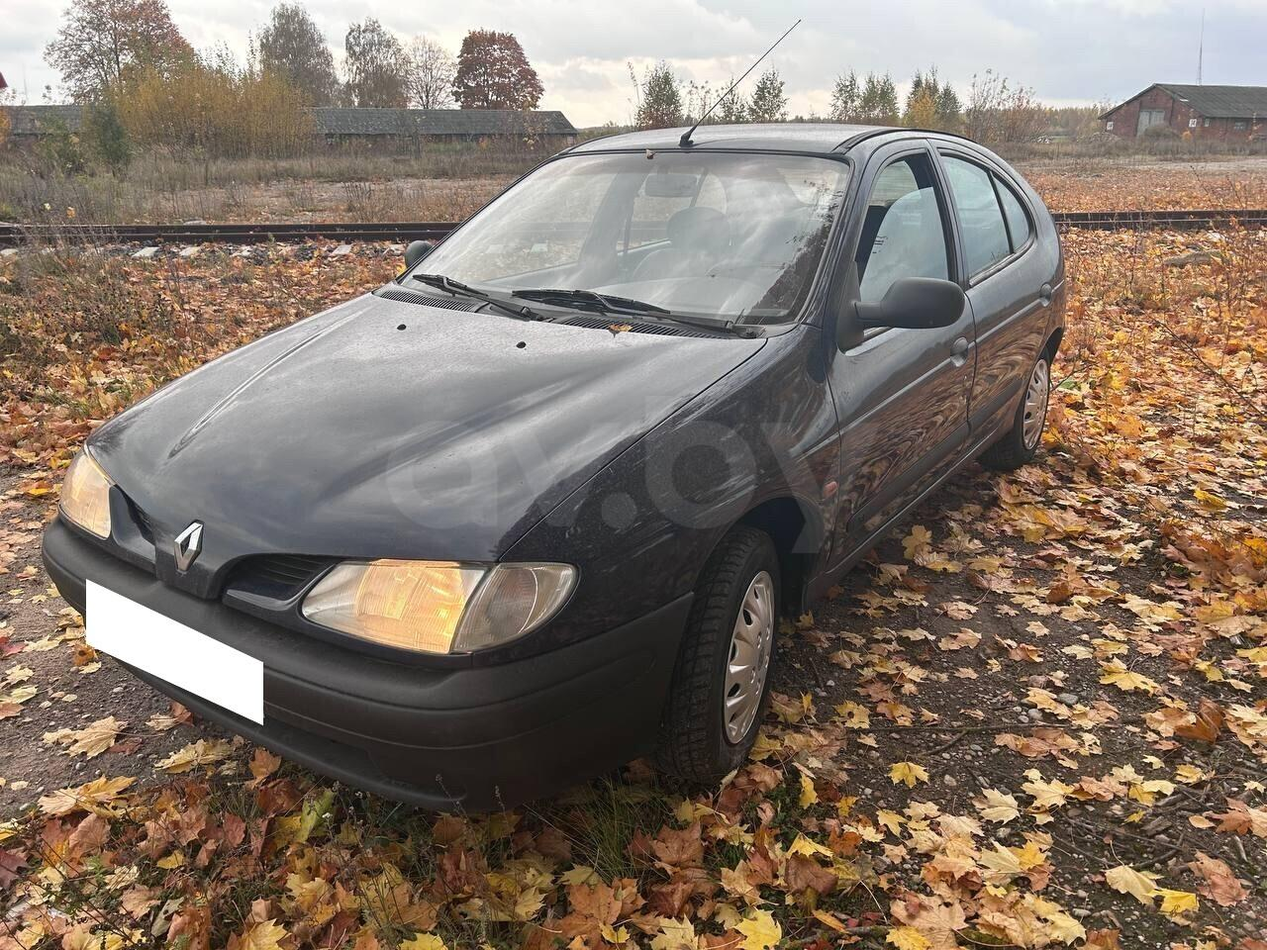Megane_1995-1999: (38, 116, 1067, 808)
